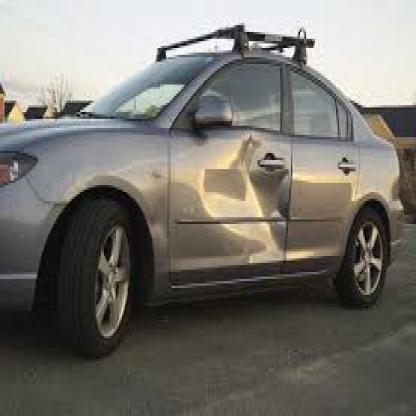dent: (200, 134, 256, 245), (268, 199, 289, 238)
